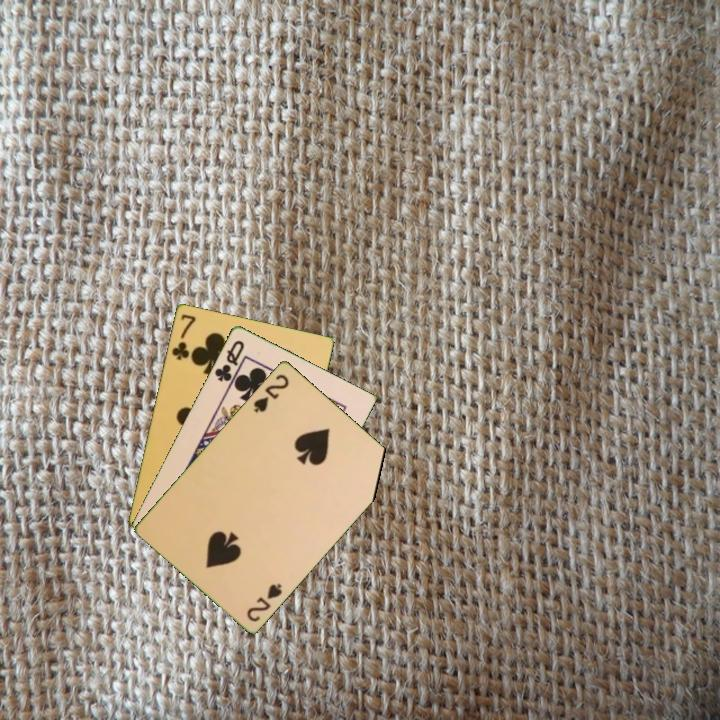2s: (250, 370, 292, 415), (243, 579, 285, 624)
7c: (168, 310, 198, 363)
Qc: (211, 336, 247, 384)
